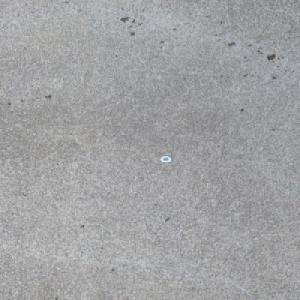Washer: (159, 155, 172, 162)
